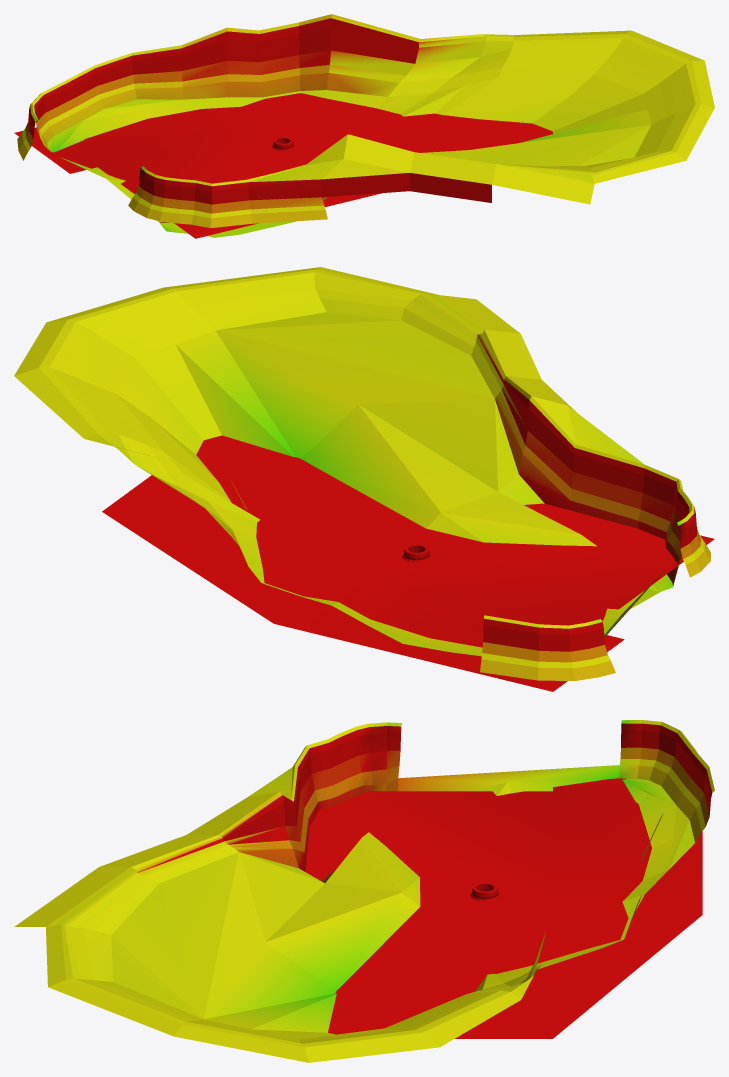
Rendered from forest_lake_basin.glb.
3 views of the same model, one above another, from view 1: azimuth 30°, elevation 25°; view 2: azimuth 150°, elevation 25°; view 3: azimuth 270°, elevation 25° (orthographic). The views are drawn at different scales.
Parts seen in each view (by area): view 1: Lake_Basin, Lake; view 2: Lake_Basin, Lake; view 3: Lake_Basin, Lake.
Part boxes in pixels (left/top/right/bottom): Lake_Basin: left=17, top=14, right=714, bottom=237; Lake: left=14, top=93, right=552, bottom=238; Lake_Basin: left=14, top=267, right=710, bottom=680; Lake: left=102, top=435, right=714, bottom=691; Lake_Basin: left=14, top=720, right=714, bottom=1062; Lake: left=305, top=778, right=702, bottom=1038.
Size of the model in its own units: 648 by 125 by 524.
